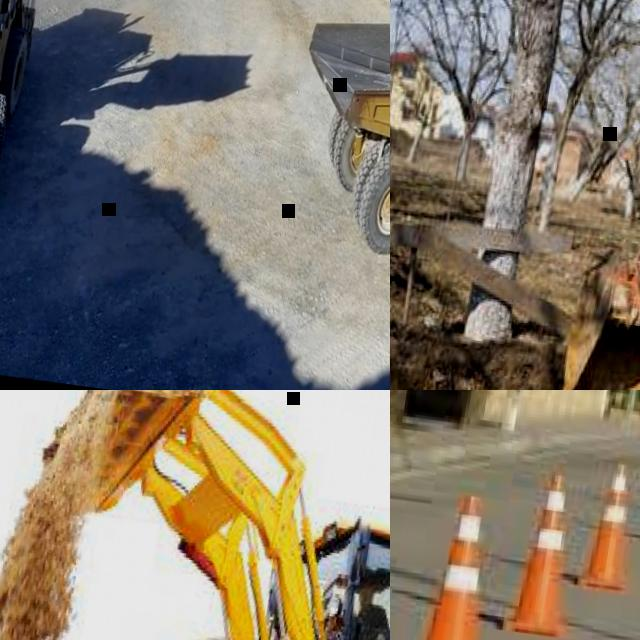NO-Hardhat: (359, 583, 378, 596)
NO-Mask: (360, 597, 375, 609)
NO-Safety Vest: (353, 605, 390, 640)
Person: (339, 580, 390, 640)
Safety Cone: (395, 488, 518, 640), (510, 471, 590, 640), (581, 452, 640, 592)
vehicle: (0, 390, 390, 640), (548, 0, 640, 390), (272, 0, 390, 274)
